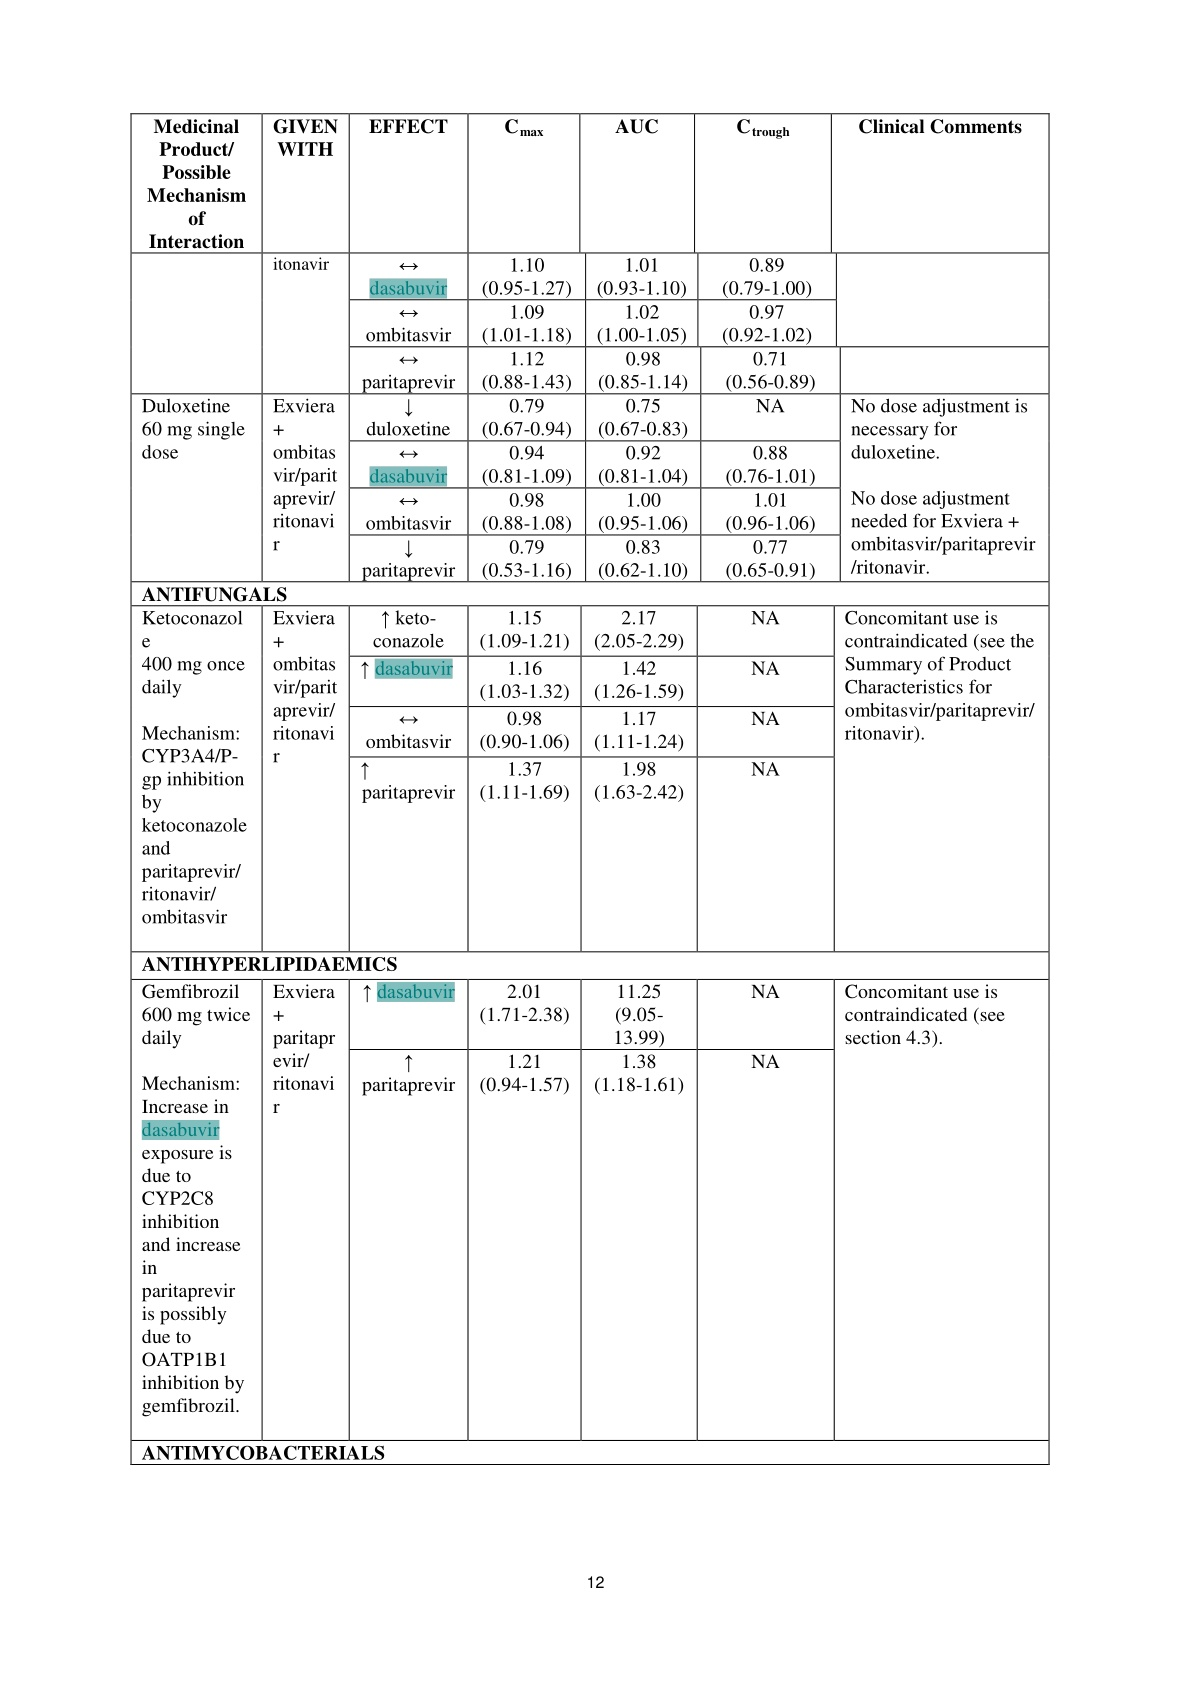merged_cells: (129, 111, 1051, 1466)
